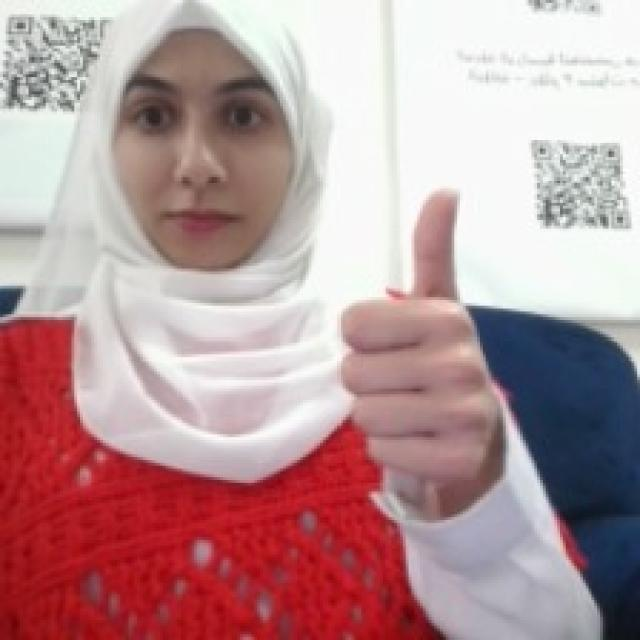fine: (326, 174, 500, 503)
